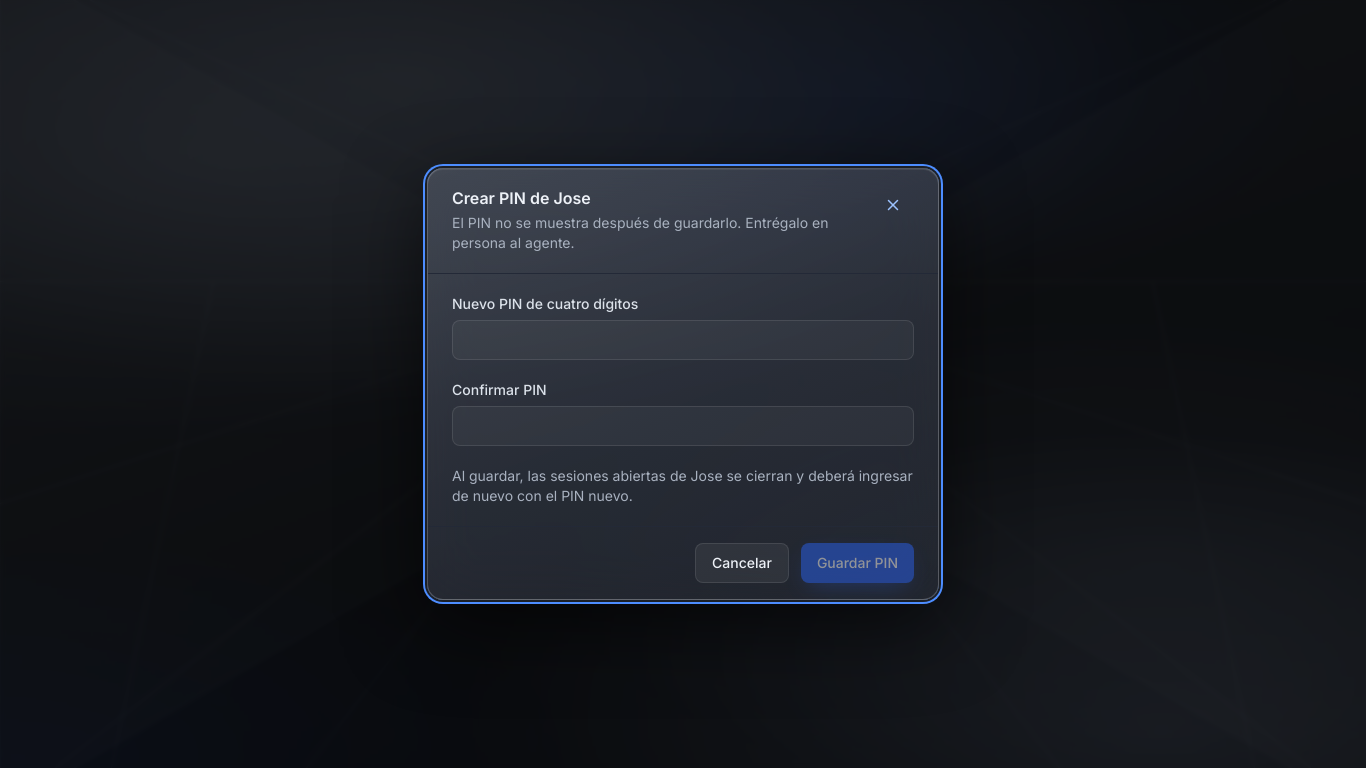
Test: typing stops at four digits
Type "123456789" into the password field labelled "Nuevo PIN de cuatro dígitos".
click(683, 340); type("123456789")  # box [452, 320, 914, 360]
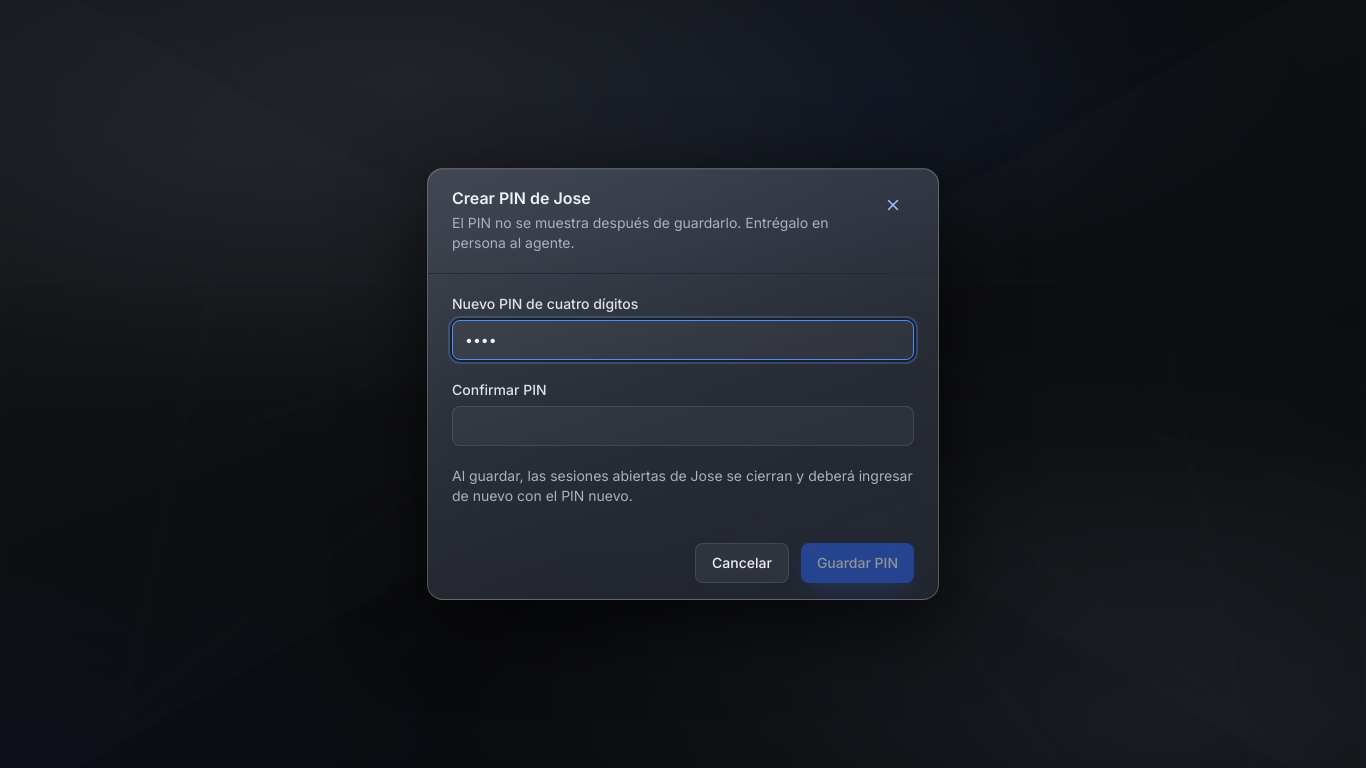
Now the password field labelled "Nuevo PIN de cuatro dígitos" holds "1234", box [452, 320, 914, 360]
